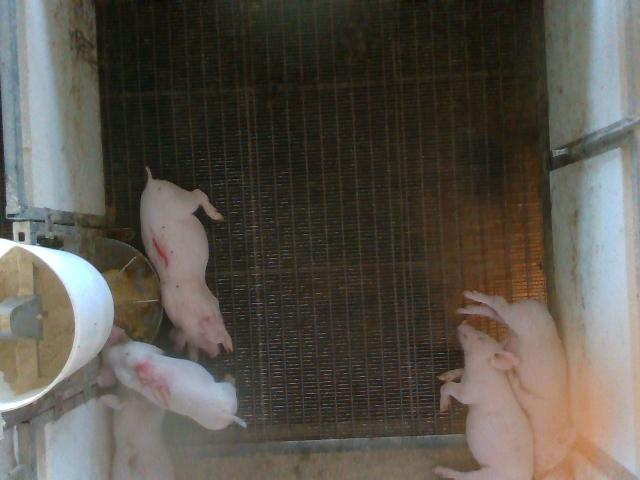pig-1: (140, 168, 232, 357)
pig-3: (99, 384, 174, 480)
pig-5: (98, 327, 246, 429)
